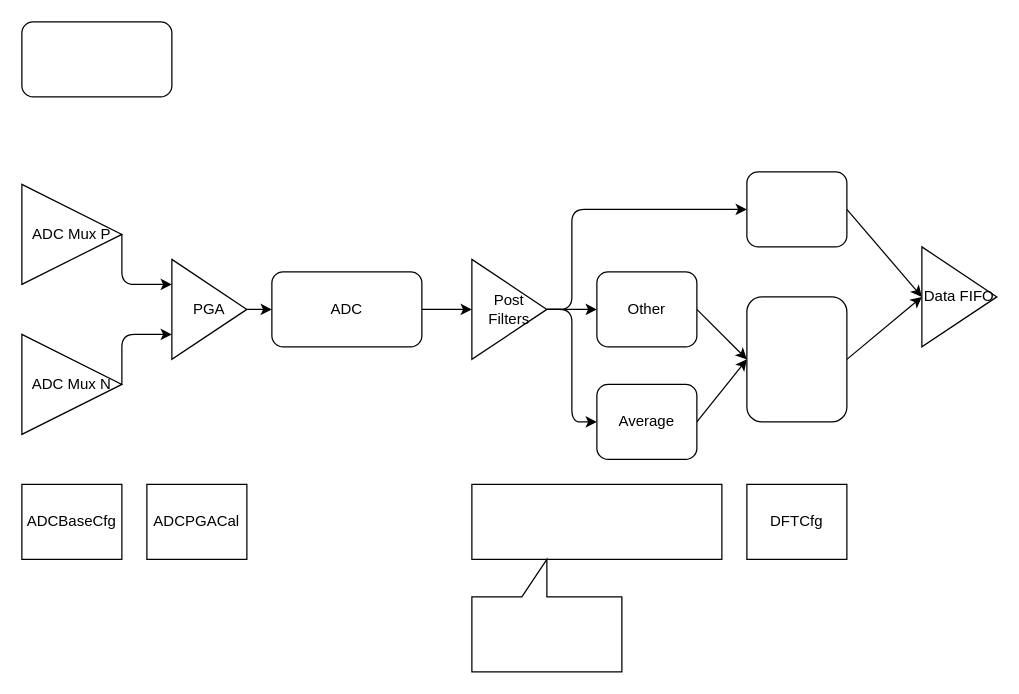
Image size: 1019x694. Some labels were removed from this diagram. Here are the shapes that lost their labels. From the top down, the centre of each, then its label:
At (96,59): "AD5940 ADC".
At (796,209): "Statistics".
At (796,359): "DFT".
At (596,521): "ADCFilterCfg".
At (546,615): "Sample Rate are set in here".
